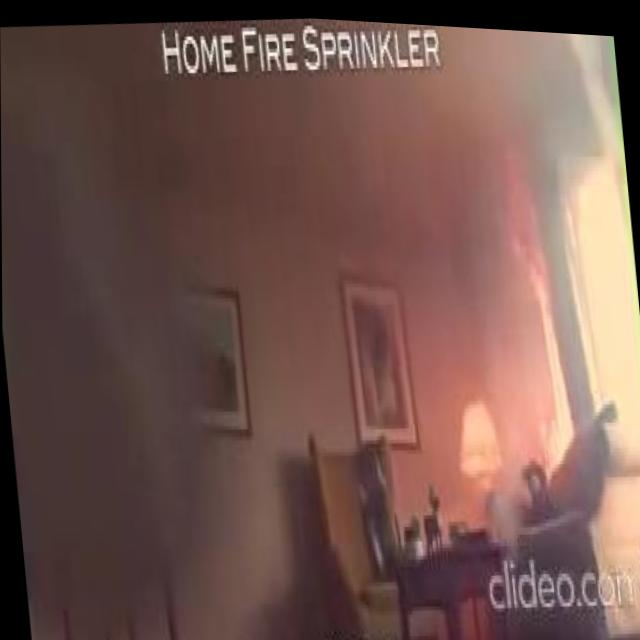fire: (490, 148, 577, 461)
